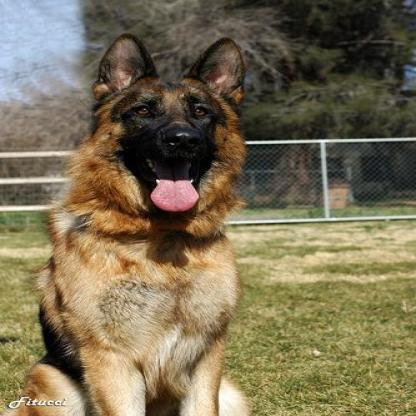German_shepherd: (0, 34, 269, 414)
